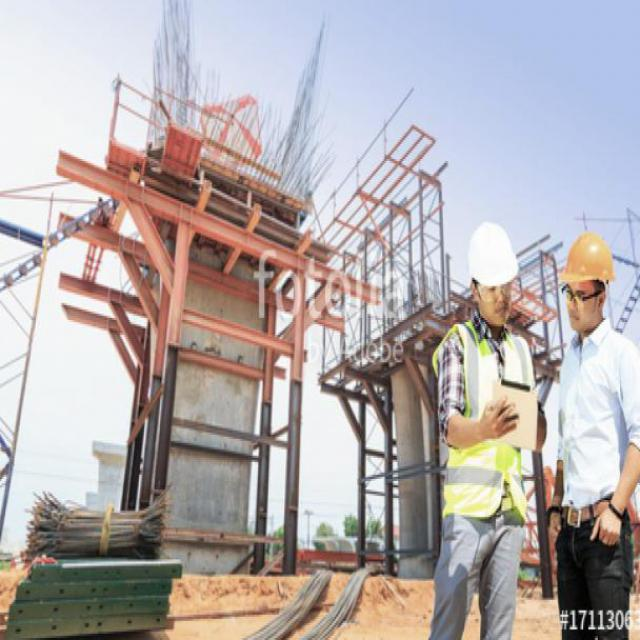helmet: (462, 207, 520, 341), (554, 229, 614, 339)
vest: (436, 318, 533, 534)
